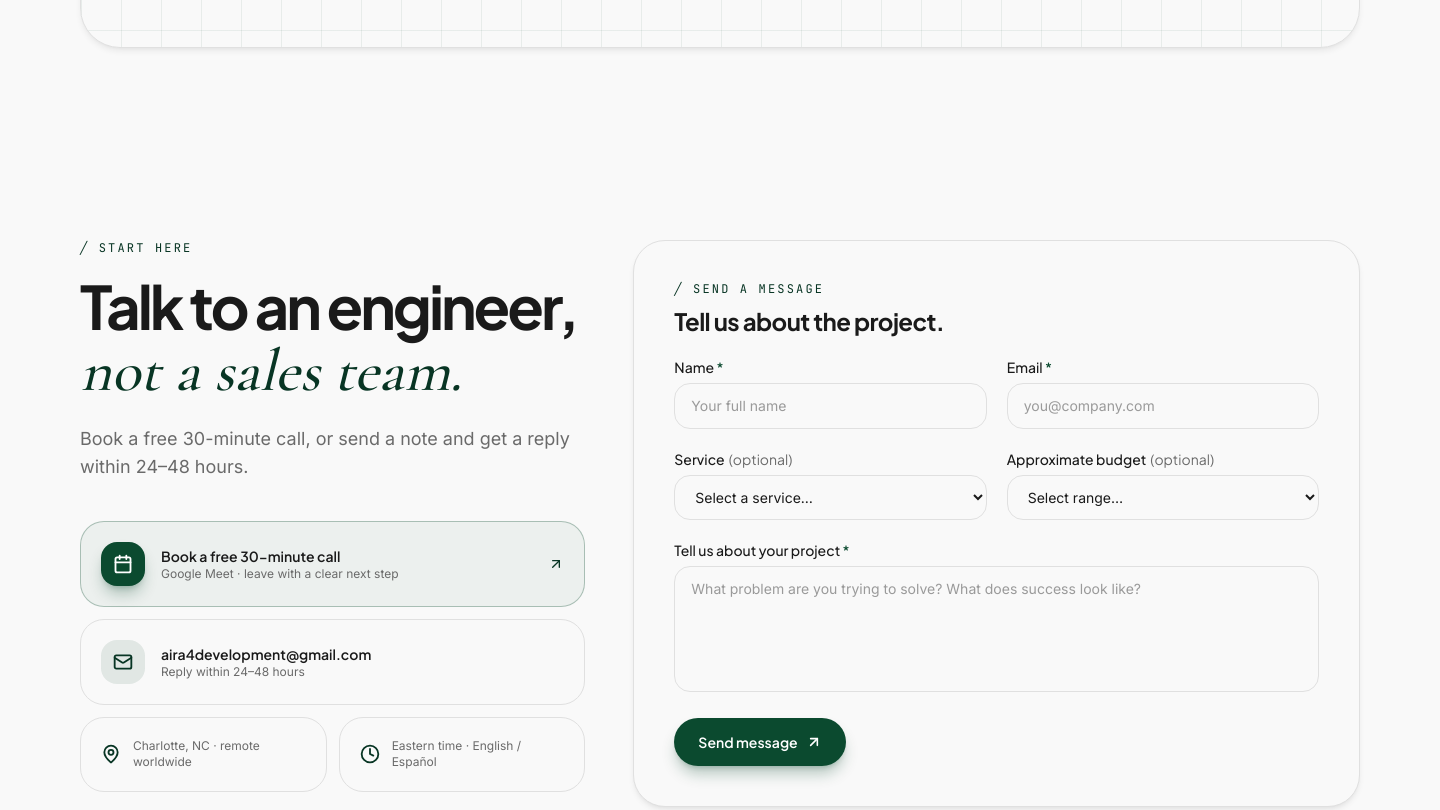
ConversionSection › LEAD-04: shows success message after successful form submission
(page scrolled)
Type "Test User" into the field with placeholder "Your full name".
click(830, 406); type("Test User")  # box [674,383,987,429]
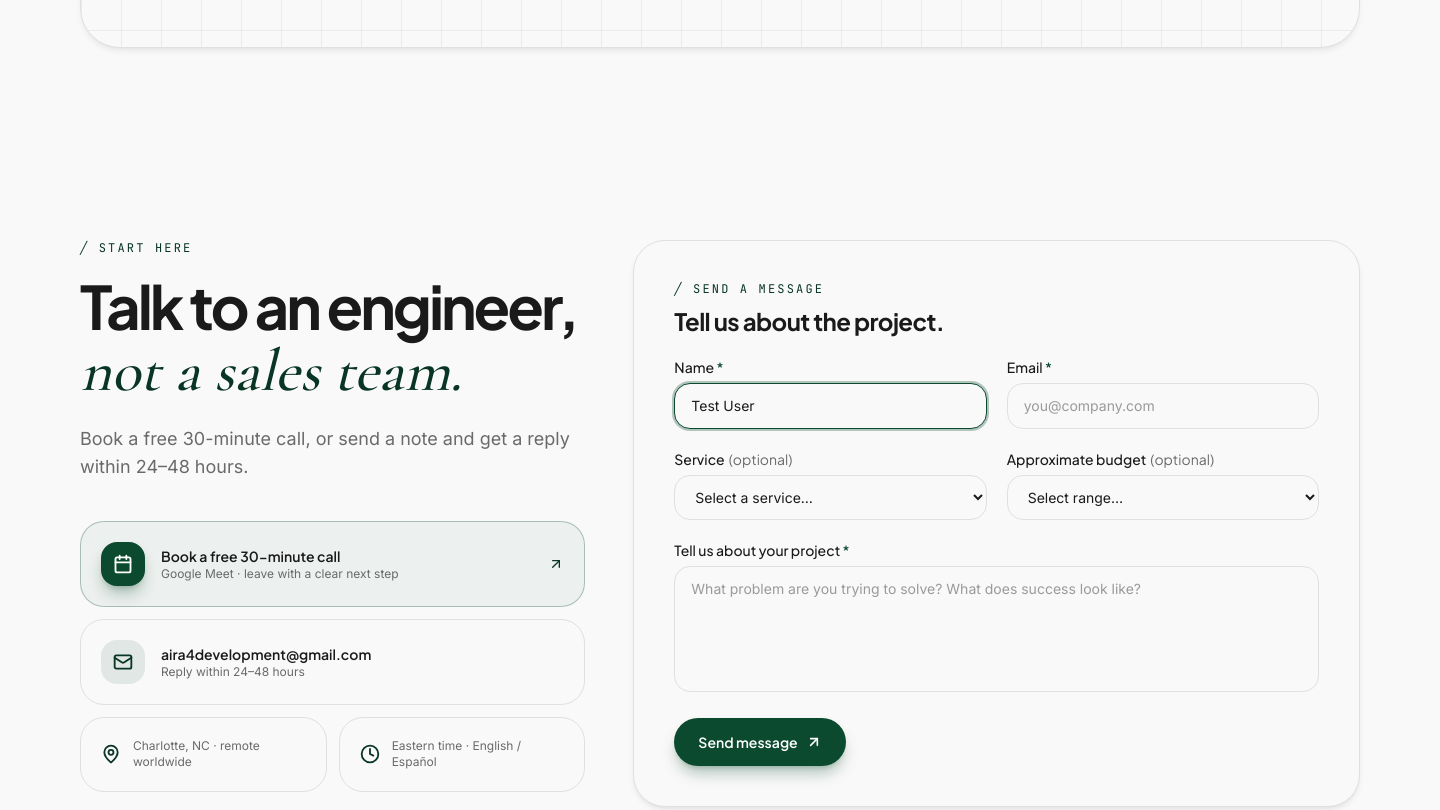
Type "test@example.com" into the field with placeholder "you@company.com".
click(1163, 406); type("test@example.com")  # box [1007,383,1319,429]
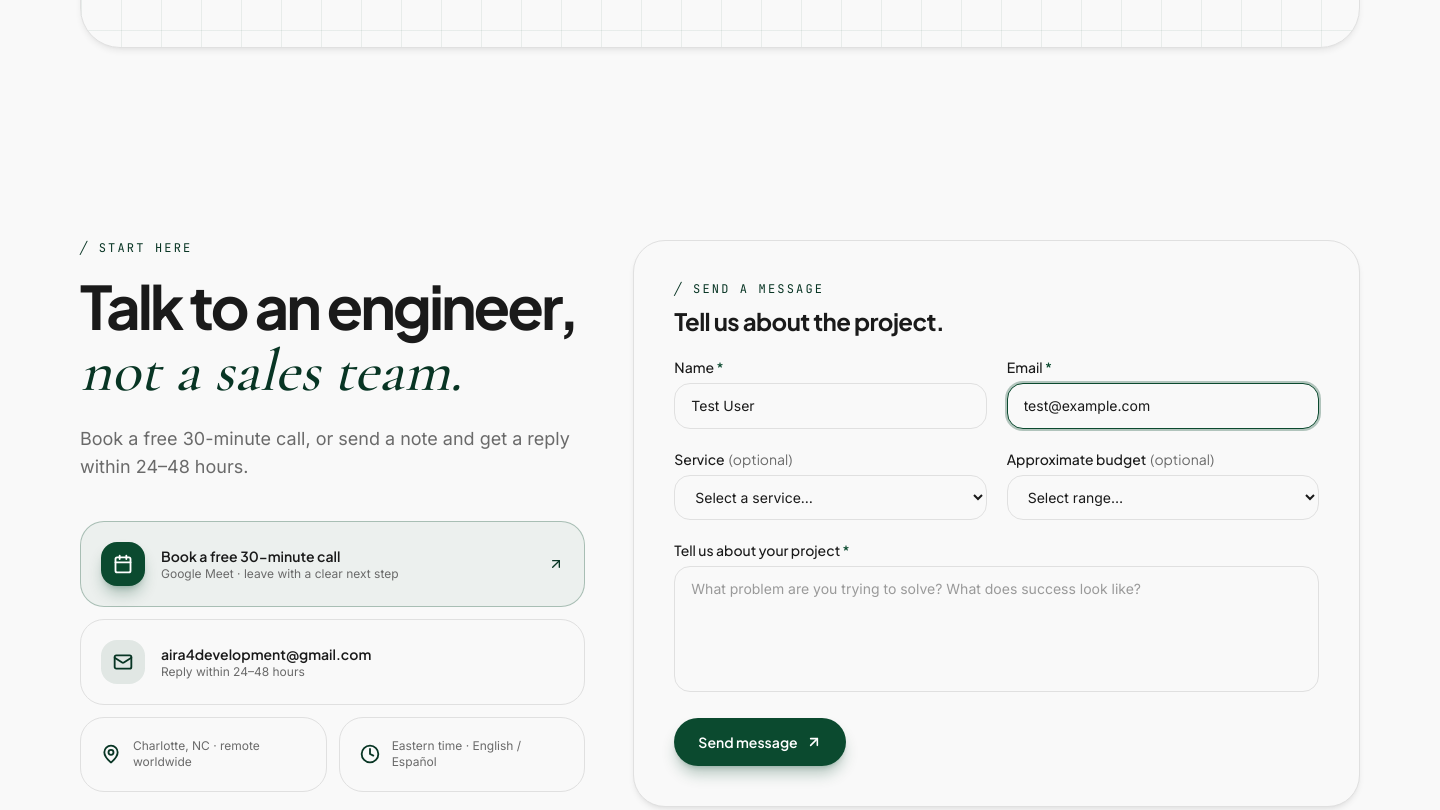
Type "Test project" into the text box with placeholder "What problem are you trying to solve? What does success look like?".
click(997, 629); type("Test project")  # box [674,566,1319,692]
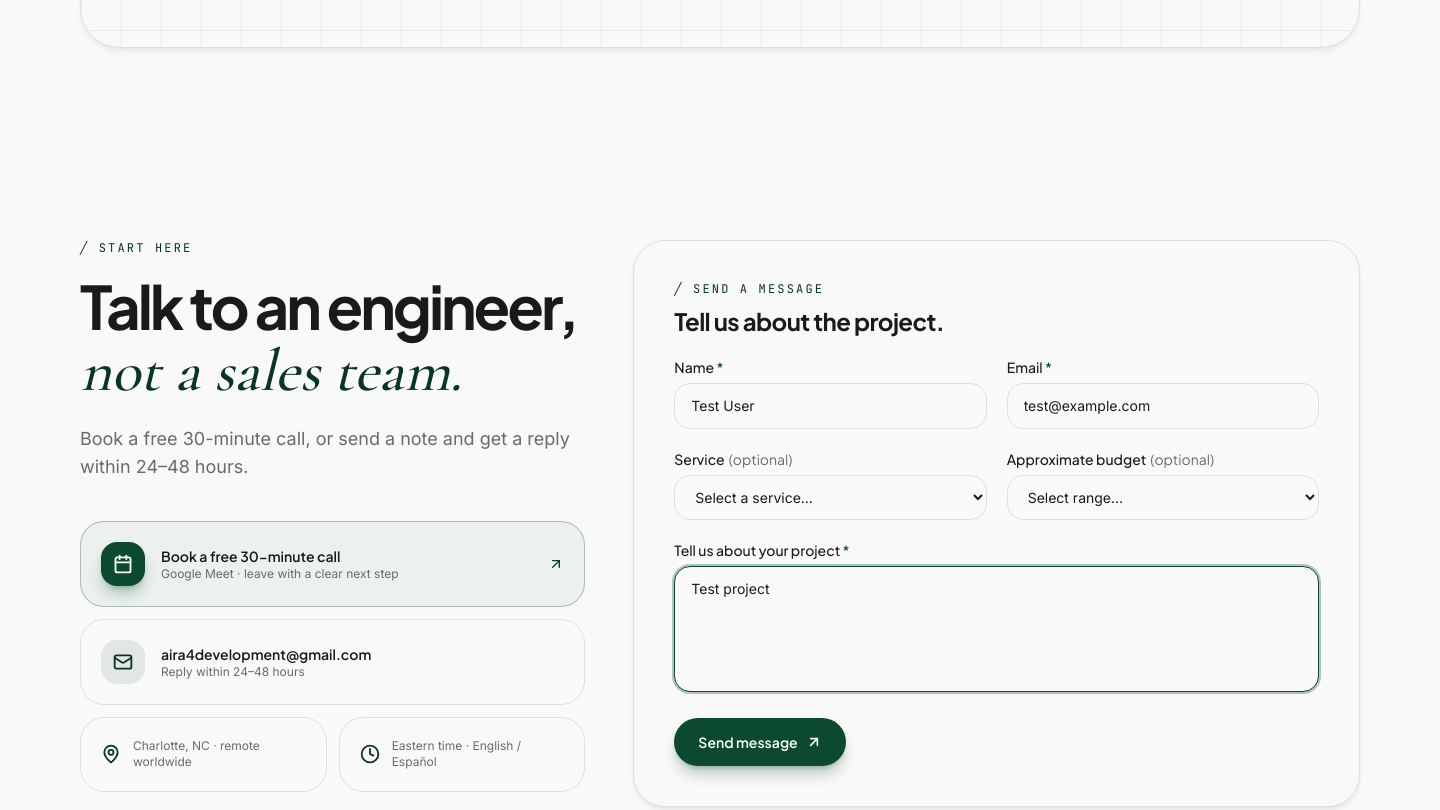
Click the button "Send message".
click(760, 742)  # box [674,718,846,766]
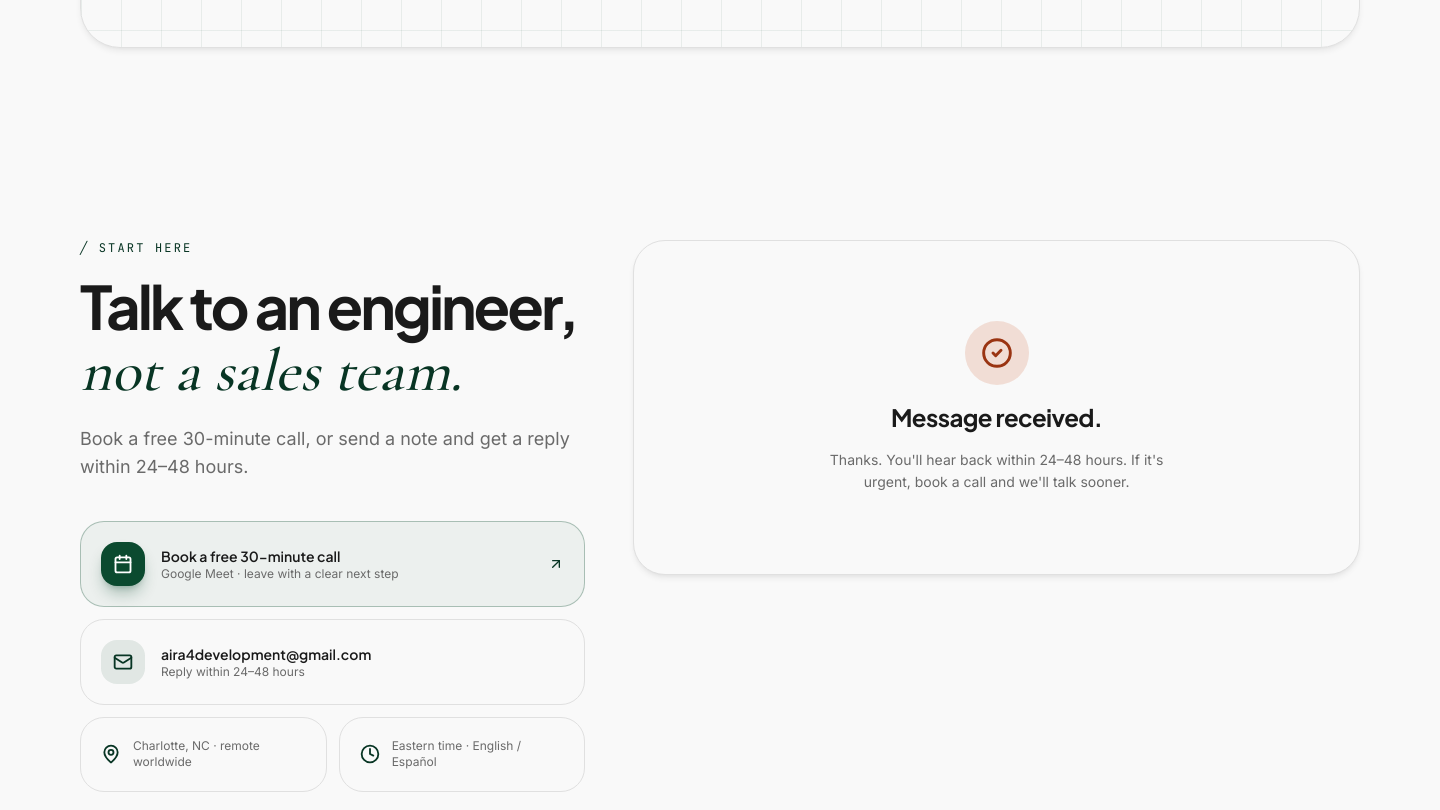
Expected: the heading "Message received." is shown, [891,401,1102,433]
